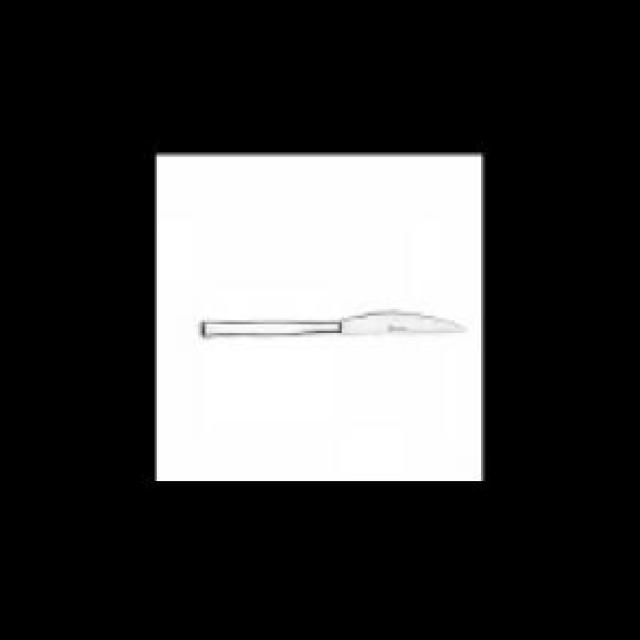knife: (194, 304, 466, 344)
